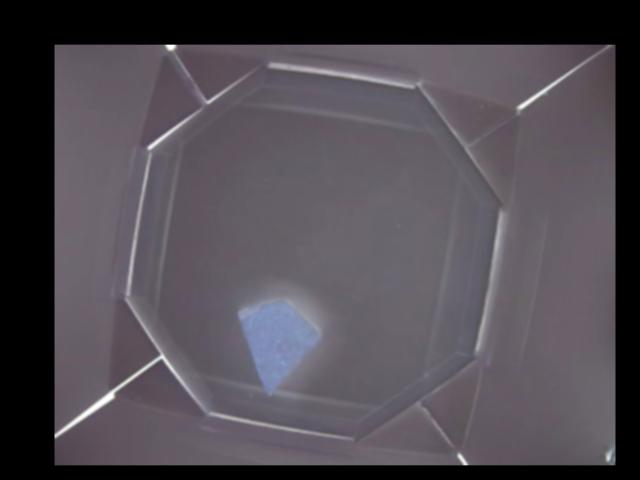China: (237, 297, 320, 399)
